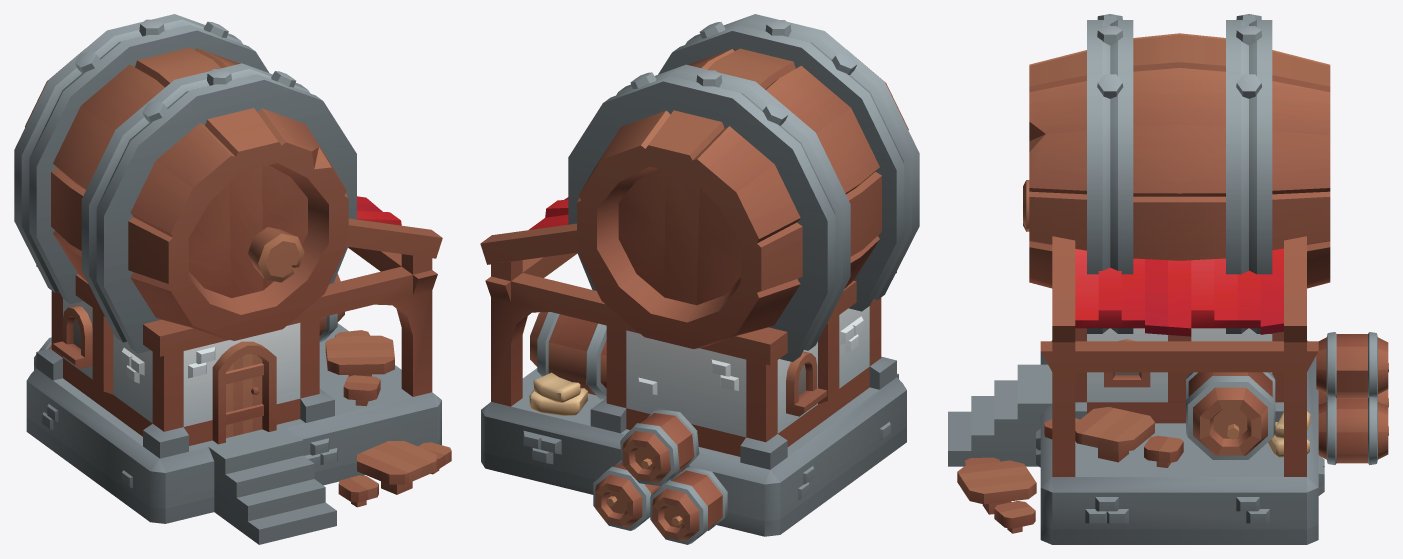
The model's file is kk_tavern_v1.glb.
3 renders of one model, left to right at view 1: azimuth 30°, elevation 25°; view 2: azimuth 150°, elevation 25°; view 3: azimuth 270°, elevation 25°, orthographic. The views are drawn at different scales.
Parts seen in each view (by area): view 1: building_tavern_red; view 2: building_tavern_red; view 3: building_tavern_red.
Boxes of the visible parts, x1=… form: building_tavern_red: x1=14, y1=14, x2=451, y2=544; building_tavern_red: x1=480, y1=14, x2=919, y2=544; building_tavern_red: x1=948, y1=14, x2=1388, y2=544.
Bounding box in the file's own units: 1.17 × 1.4 × 1.33.
1 material, 1 textured.
